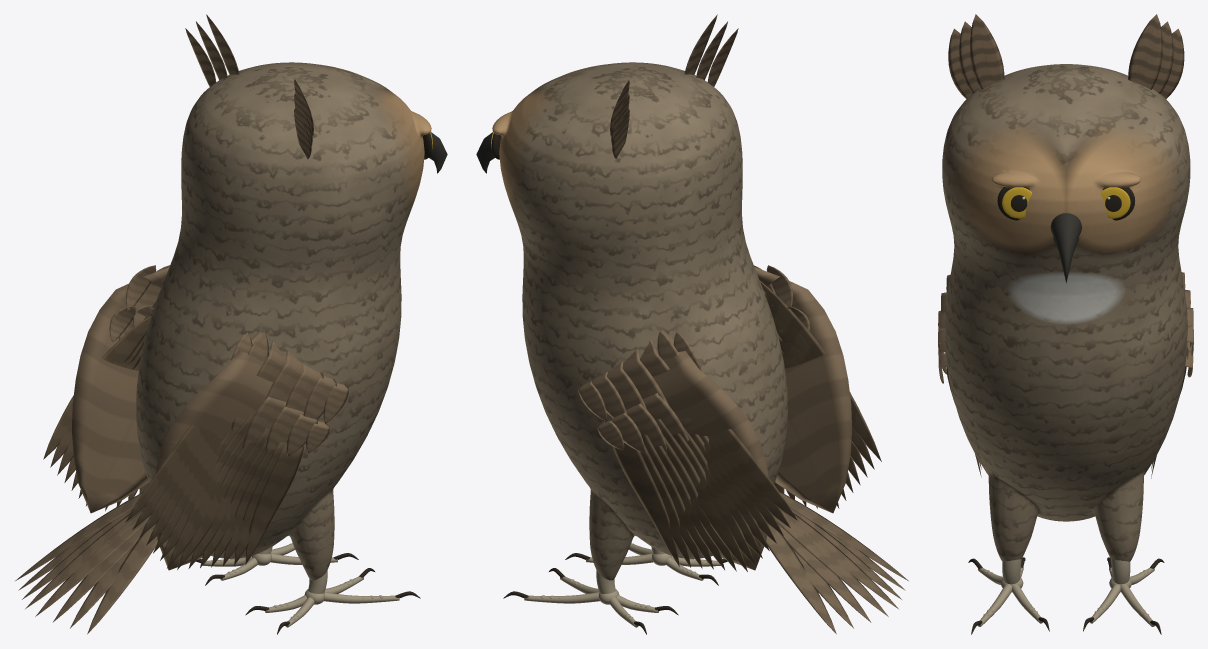
File: T01-Owl-Innerscene-R187-1024.glb
3 views of the same model, side by side, from view 1: azimuth 30°, elevation 25°; view 2: azimuth 150°, elevation 25°; view 3: azimuth 270°, elevation 25° (orthographic). The views are drawn at different scales.
Parts seen in each view (by area): view 1: Continuous anatomical skin | owl, Cambered folded wing foundation.001, Cambered folded wing foundation, Overlapping closed flight feather 13, Overlapping tail rectrix 00, Overlapping closed flight feather 06, Overlapping closed flight feather 13.001, Overlapping tail rectrix 03, Overlapping closed flight feather 00, Overlapping tail rectrix 04, Overlapping closed flight feather 09, Overlapping tail rectrix 07 (+22 smaller); view 2: Continuous anatomical skin | owl, Cambered folded wing foundation, Cambered folded wing foundation.001, Overlapping closed flight feather 00.001, Overlapping closed flight feather 00, Overlapping tail rectrix 07, Overlapping closed flight feather 13.001, Overlapping closed flight feather 06.001, Overlapping tail rectrix 04, Overlapping tail rectrix 03, Overlapping closed flight feather 05.001, Overlapping tail rectrix 00 (+21 smaller); view 3: Continuous anatomical skin | owl, Paired owl feather tuft, not an anatomical ear, Paired owl feather tuft, not an anatomical ear.003, Closed descending upper hook and seated cere, Paired owl feather tuft, not an anatomical ear.004, Paired owl feather tuft, not an anatomical ear.001, Paired owl feather tuft, not an anatomical ear.002, Paired owl feather tuft, not an anatomical ear.005, Flush golden owl iris, Flush golden owl iris.001, Bare raptor tarsus seated inside thigh and foot, Bare raptor tarsus seated inside thigh and foot.001 (+2 smaller).
Boxes of the visible parts, bbox=[...] form: Continuous anatomical skin | owl: bbox=[136, 62, 431, 580]; Cambered folded wing foundation.001: bbox=[72, 267, 169, 513]; Cambered folded wing foundation: bbox=[155, 330, 272, 570]; Overlapping closed flight feather 13: bbox=[245, 445, 304, 564]; Overlapping tail rectrix 00: bbox=[87, 524, 157, 634]; Overlapping closed flight feather 06: bbox=[167, 414, 253, 568]; Overlapping closed flight feather 13.001: bbox=[43, 316, 151, 459]; Overlapping tail rectrix 03: bbox=[35, 509, 150, 616]; Overlapping closed flight feather 00: bbox=[125, 425, 208, 522]; Overlapping tail rectrix 04: bbox=[25, 508, 143, 608]; Overlapping closed flight feather 09: bbox=[200, 428, 270, 567]; Overlapping tail rectrix 07: bbox=[15, 492, 143, 580]; Continuous anatomical skin | owl: bbox=[492, 62, 787, 580]; Cambered folded wing foundation: bbox=[754, 267, 851, 513]; Cambered folded wing foundation.001: bbox=[653, 330, 768, 570]; Overlapping closed flight feather 00.001: bbox=[604, 415, 679, 566]; Overlapping closed flight feather 00: bbox=[759, 280, 881, 461]; Overlapping tail rectrix 07: bbox=[766, 524, 836, 634]; Overlapping closed flight feather 13.001: bbox=[718, 429, 797, 520]; Overlapping closed flight feather 06.001: bbox=[672, 433, 747, 571]; Overlapping tail rectrix 04: bbox=[774, 510, 888, 616]; Overlapping tail rectrix 03: bbox=[785, 513, 898, 608]; Overlapping closed flight feather 05.001: bbox=[655, 419, 736, 571]; Overlapping tail rectrix 00: bbox=[779, 491, 908, 580]; Continuous anatomical skin | owl: bbox=[942, 64, 1190, 561]; Paired owl feather tuft, not an anatomical ear: bbox=[970, 14, 1004, 89]; Paired owl feather tuft, not an anatomical ear.003: bbox=[1128, 14, 1162, 89]; Closed descending upper hook and seated cere: bbox=[1050, 213, 1081, 283]; Paired owl feather tuft, not an anatomical ear.004: bbox=[1152, 21, 1173, 93]; Paired owl feather tuft, not an anatomical ear.001: bbox=[959, 21, 979, 93]; Paired owl feather tuft, not an anatomical ear.002: bbox=[948, 28, 971, 98]; Paired owl feather tuft, not an anatomical ear.005: bbox=[1160, 28, 1184, 98]; Flush golden owl iris: bbox=[1002, 187, 1031, 218]; Flush golden owl iris.001: bbox=[1100, 187, 1130, 218]; Bare raptor tarsus seated inside thigh and foot: bbox=[1002, 559, 1021, 584]; Bare raptor tarsus seated inside thigh and foot.001: bbox=[1111, 559, 1130, 584].
Size of the model in its own units: 0.408 by 0.5128 by 0.2121.
12 materials, 12 textured.
